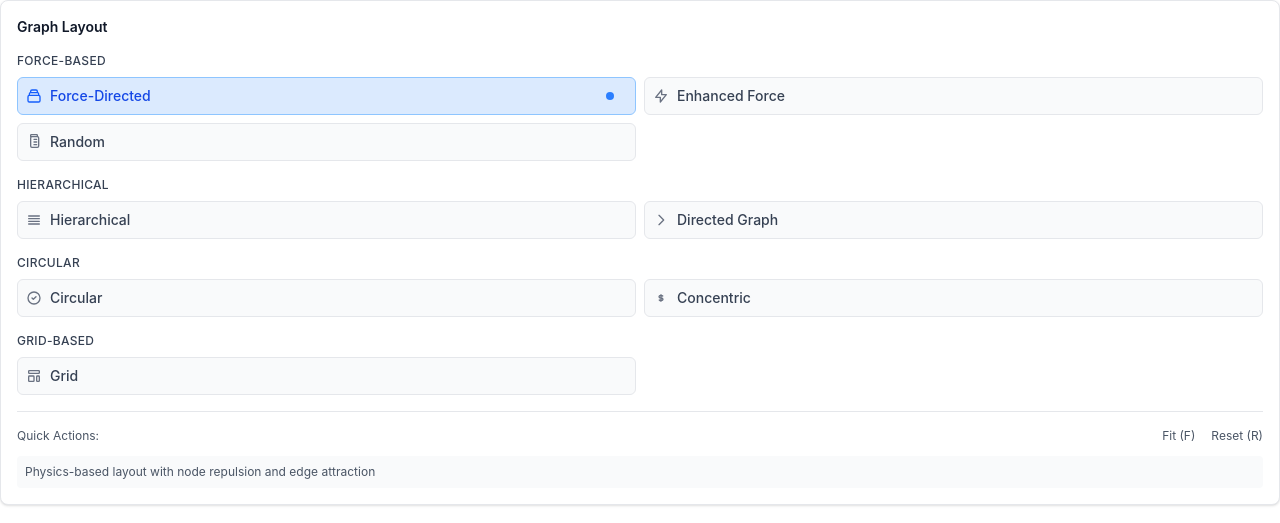
CausalGraphLayoutManager › shows loading state during transition
The image size is (1280, 523).
Click the button "Circular" at (76, 298), box [17,279,636,317]
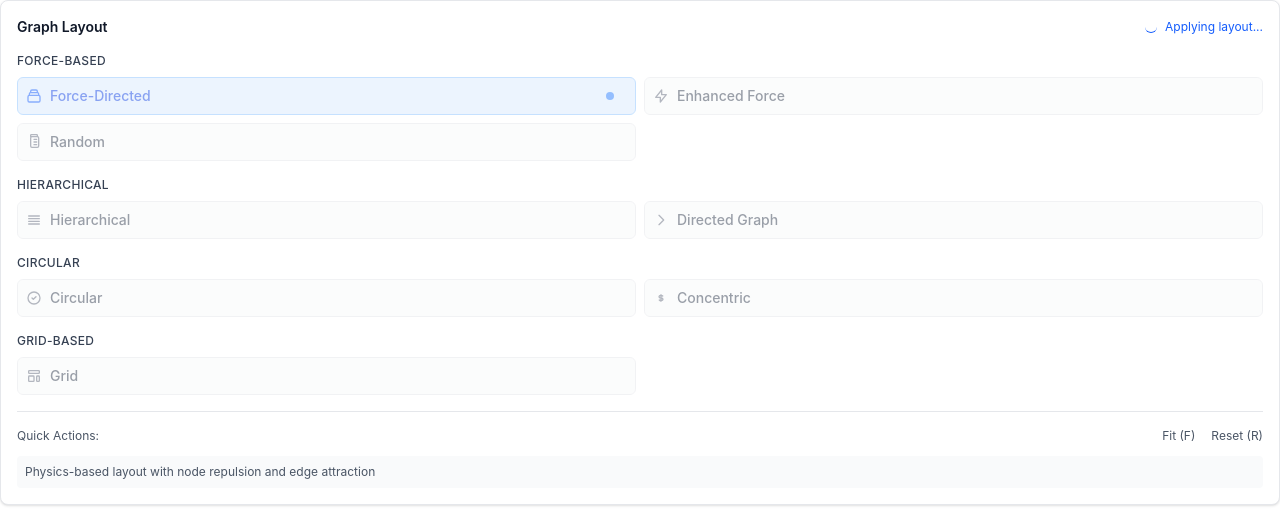
Check: the text "Applying layout..." is shown, box [1165,19,1263,35]
